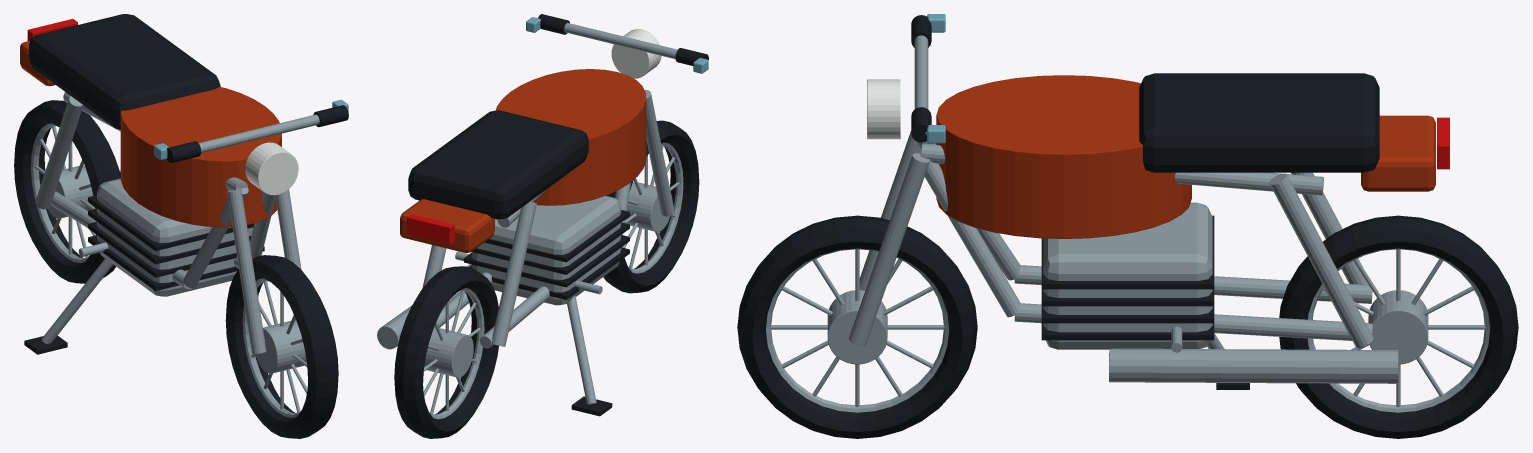
The picture shows the model from 3 angles, left to right: view 1: azimuth 30°, elevation 25°; view 2: azimuth 150°, elevation 25°; view 3: azimuth 270°, elevation 25°; orthographic projection. The views are drawn at different scales.
Visible parts, largest first — view 1: FUEL_Tank, SEAT, TYRE, TYRE.001, ENGINE, FRONT_Fork, HEADLIGHT, REAR_Shock, HUB, HANDLEBAR, FRAME_Downtube, SPOKES (+18 smaller); view 2: SEAT, FUEL_Tank, TYRE.001, ENGINE, TYRE, TAIL, REAR_Shock, HUB.001, FRONT_Fork, HEADLIGHT, HUB, HANDLEBAR (+18 smaller); view 3: FUEL_Tank, SEAT, TYRE, TYRE.001, ENGINE, EXHAUST, TAIL, REAR_Shock.001, FRONT_Fork.001, HUB.001, FRAME_Lower.001, SPOKES (+16 smaller).
Part boxes in pixels (x1,y1,x2,y2): FUEL_Tank: (120, 87, 281, 227); SEAT: (29, 14, 220, 129); TYRE: (225, 255, 338, 438); TYRE.001: (14, 100, 120, 283); ENGINE: (97, 178, 253, 296); FRONT_Fork: (227, 189, 266, 354); HEADLIGHT: (245, 142, 298, 195); REAR_Shock: (35, 96, 83, 209); HUB: (255, 320, 306, 373); HANDLEBAR: (199, 114, 319, 153); FRAME_Downtube: (183, 187, 248, 288); SPOKES: (246, 281, 307, 413); SEAT: (408, 110, 588, 219); FUEL_Tank: (495, 69, 646, 205); TYRE.001: (394, 266, 498, 438); ENGINE: (472, 195, 621, 305); TYRE: (603, 120, 699, 293); TAIL: (400, 199, 494, 252); REAR_Shock: (492, 201, 536, 346); HUB.001: (424, 327, 473, 377); FRONT_Fork: (644, 89, 674, 216); HEADLIGHT: (611, 29, 661, 78); HUB: (625, 182, 672, 232); HANDLEBAR: (564, 23, 677, 59); FUEL_Tank: (936, 75, 1191, 238); SEAT: (1139, 73, 1379, 172); TYRE: (737, 215, 977, 438); TYRE.001: (1279, 215, 1518, 438); ENGINE: (1043, 202, 1212, 349); EXHAUST: (1109, 348, 1398, 383); TAIL: (1361, 115, 1435, 191); REAR_Shock.001: (1269, 173, 1373, 347); FRONT_Fork.001: (848, 153, 930, 345); HUB.001: (1368, 290, 1428, 364); FRAME_Lower.001: (1014, 303, 1372, 340); SPOKES: (770, 249, 944, 407).
Bounding box in the file's own units: 0.78 × 1.08 × 2.08.
